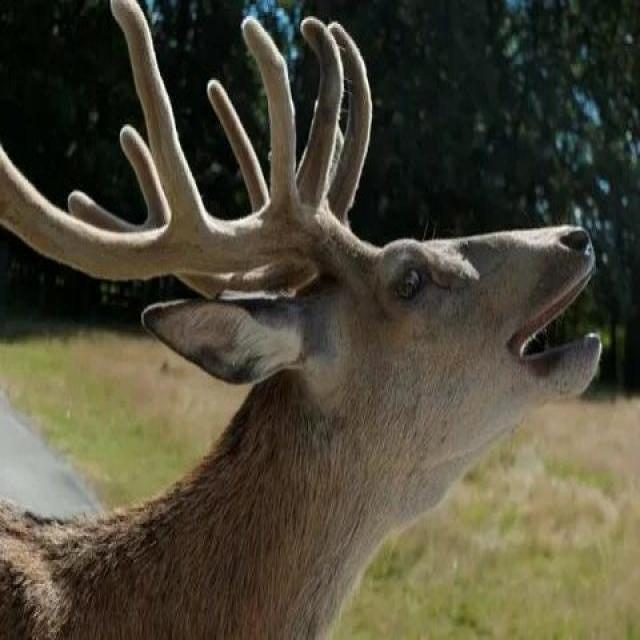deer: (115, 75, 619, 544)
